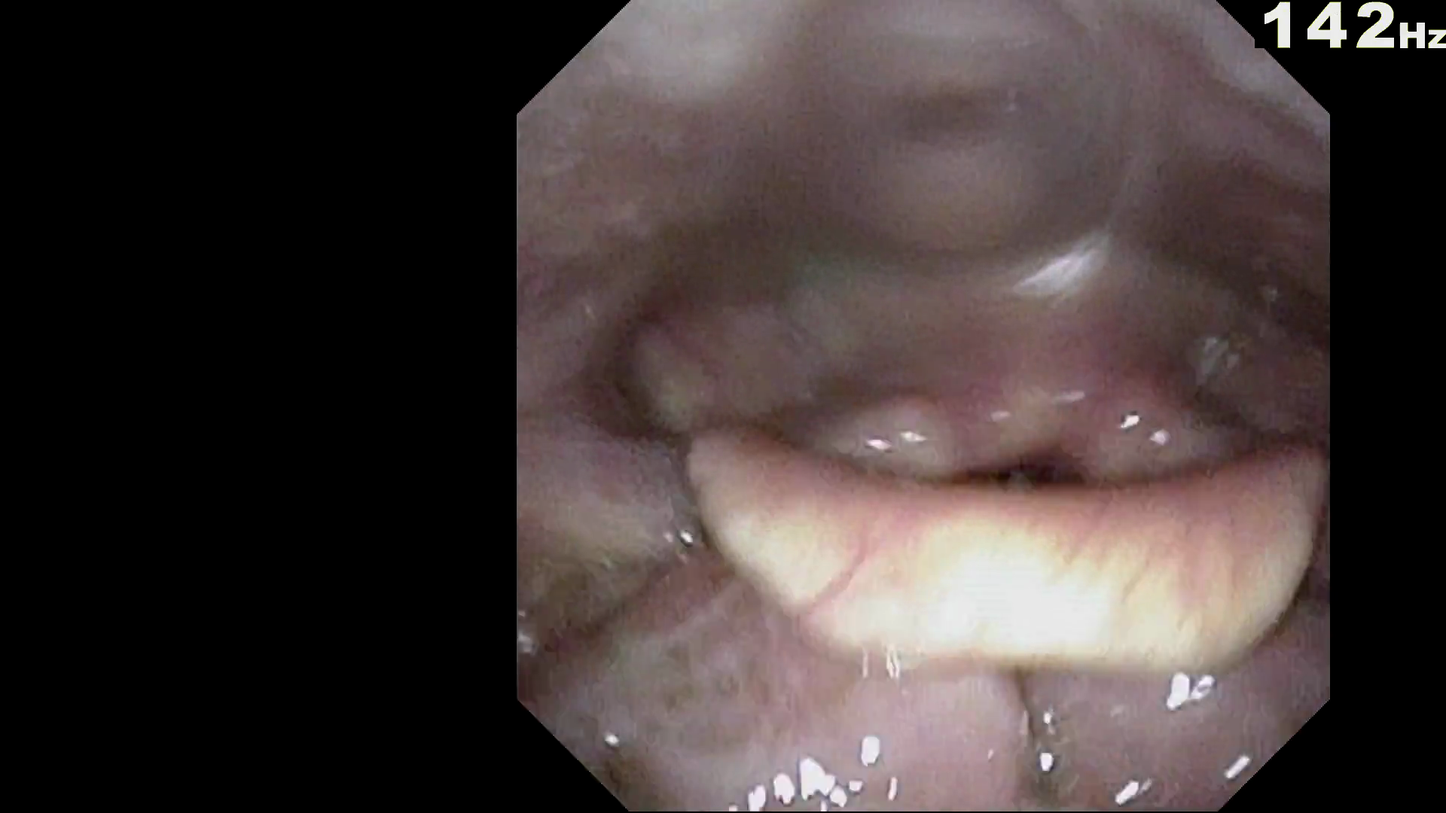epiglottis: (666, 415, 1282, 640)
